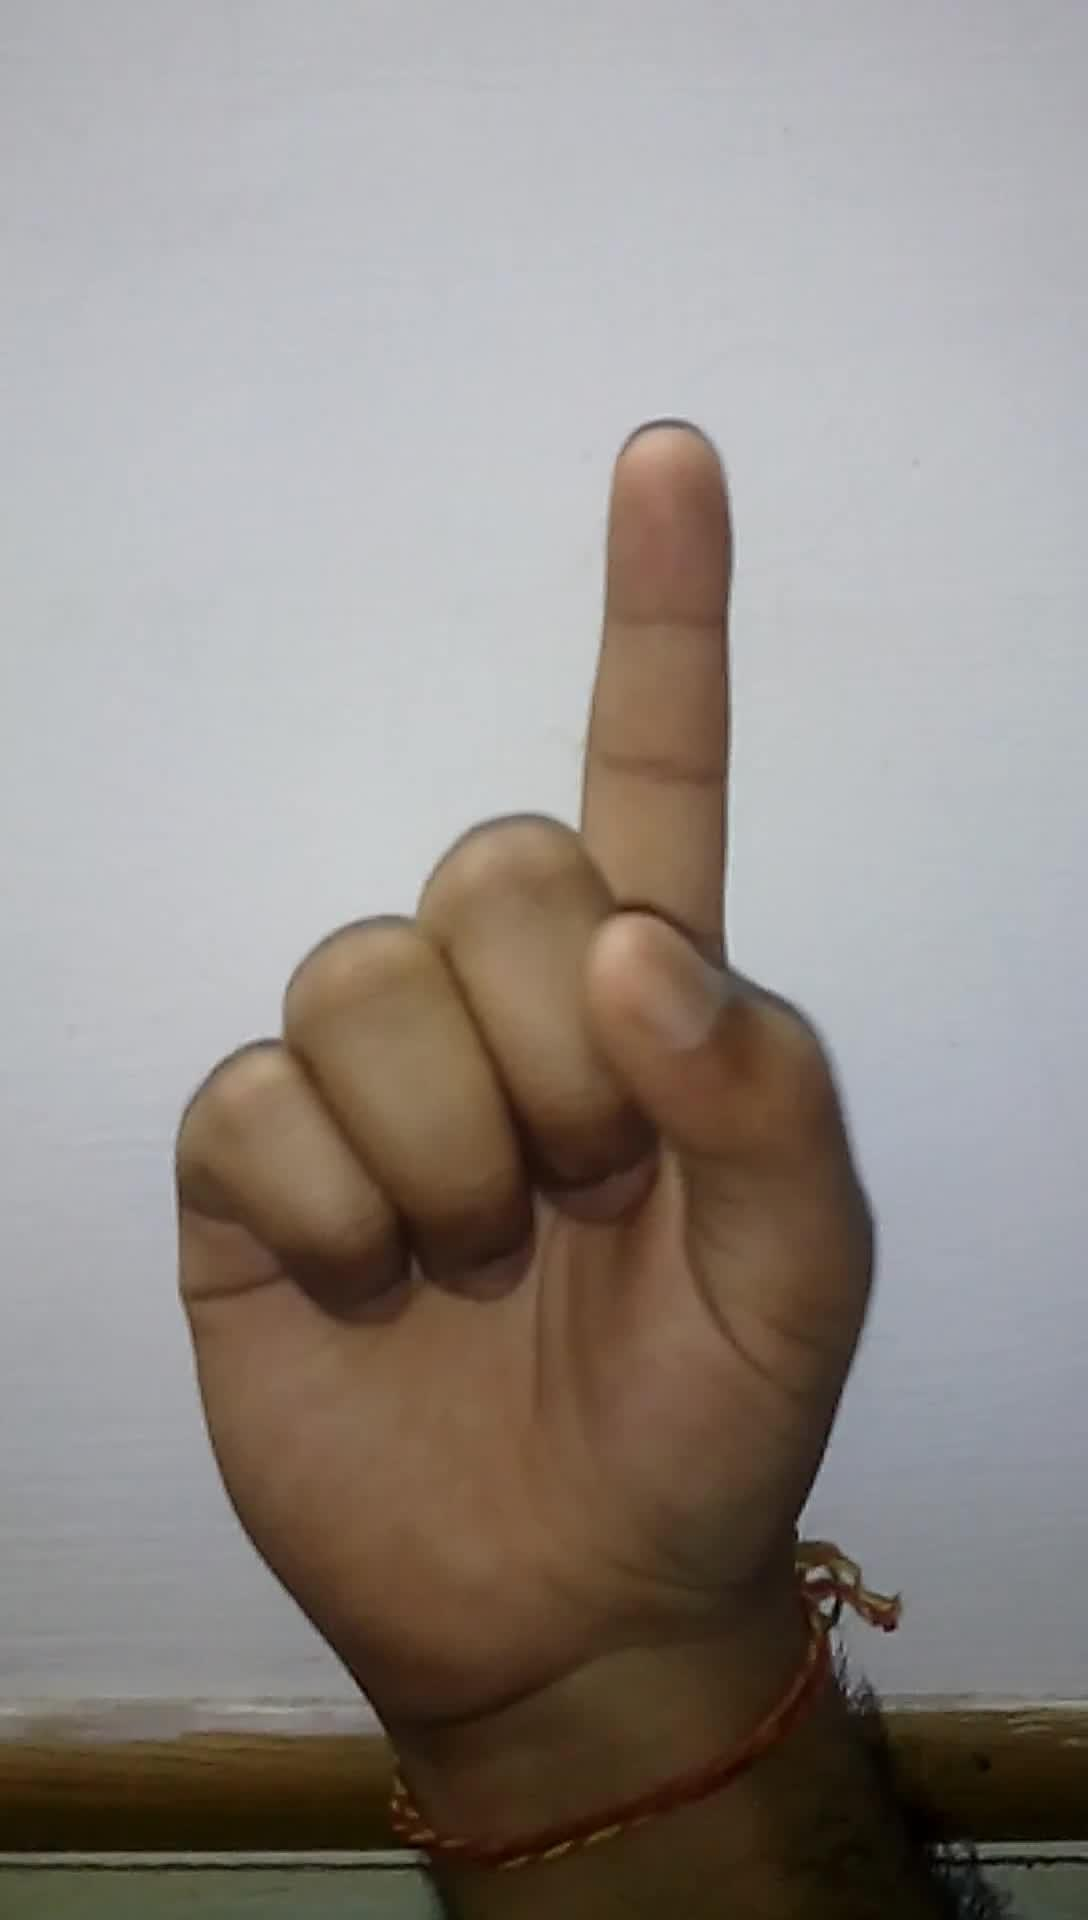I: (157, 403, 823, 1668)
